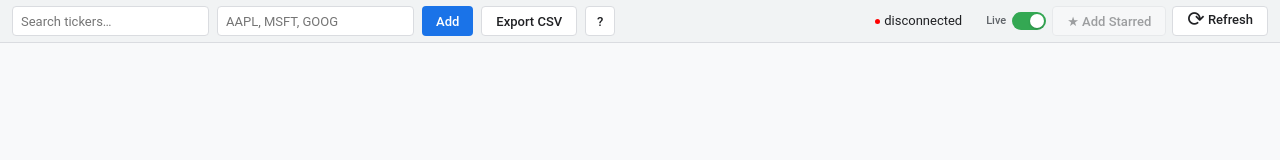
Scenario: ToolBar › shows validation error for empty ticker
Click the button "Add". click: (448, 21)
box: [422, 6, 473, 36]
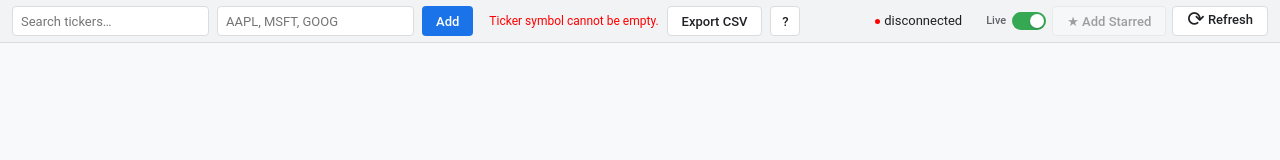
Now the message reads "Ticker symbol cannot be empty.", box [489, 14, 659, 28]
